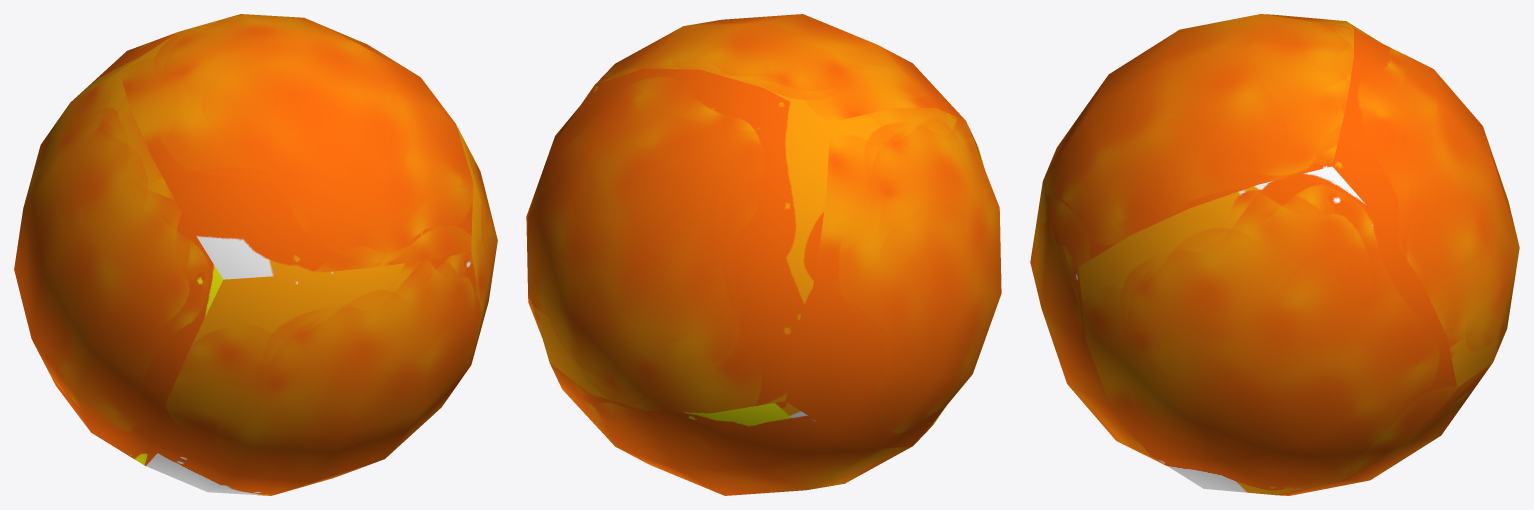
Rendered from FireBall.fbx.
3 views of the same model, side by side, from view 1: azimuth 30°, elevation 25°; view 2: azimuth 150°, elevation 25°; view 3: azimuth 270°, elevation 25° (orthographic).
Parts seen in each view (by area): view 1: pCube1; view 2: pCube1; view 3: pCube1.
Boxes of the visible parts, x1,y1,x2,y2 form: pCube1: (14,14,497,495); pCube1: (526,14,1001,495); pCube1: (1030,14,1519,495).
Bounding box in the file's own units: 88.38 × 88.34 × 88.67.
